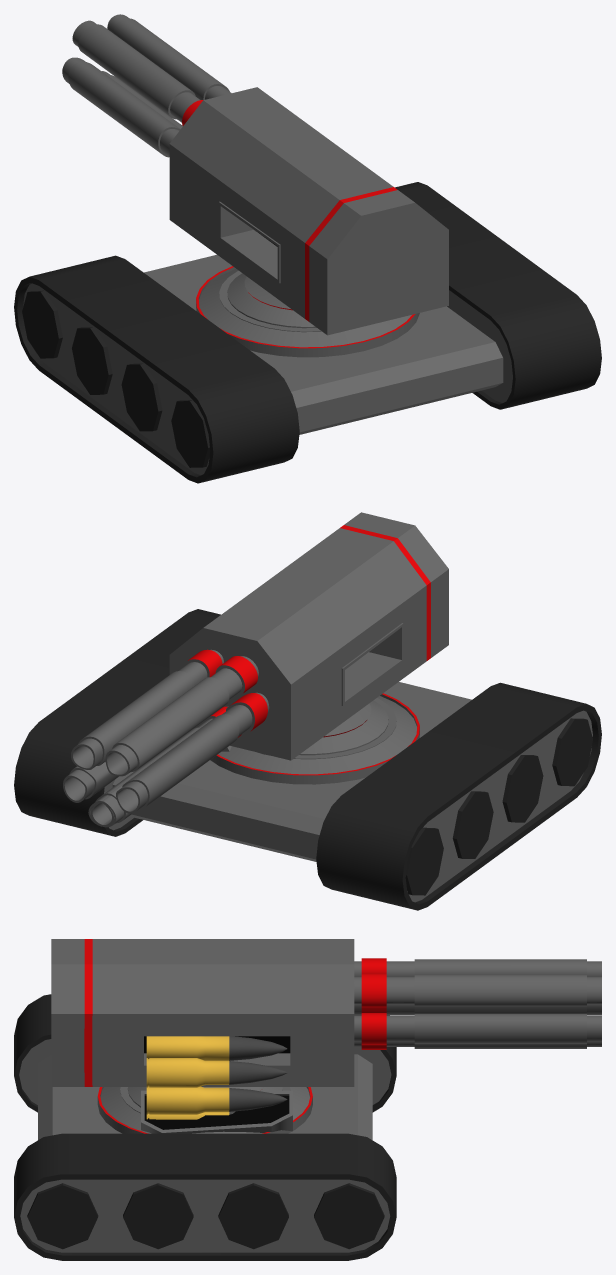
The model's file is GatlingTank.glb.
3 renders of one model, top to bottom at view 1: azimuth 30°, elevation 25°; view 2: azimuth 150°, elevation 25°; view 3: azimuth 270°, elevation 25°, orthographic. The views are drawn at different scales.
Visible parts, largest first — view 1: Tracks, Turret, Base, Cylinder, Turntable, Turret Base, Wheels.007, Wheels.005, Wheels.006, Wheels.008; view 2: Tracks, Turret, Cylinder, Base, Turntable, Turret Base, Wheels.008, Wheels.007, Wheels.006, Wheels.005; view 3: Turret, Tracks, Cylinder, Bullet, Base, Wheels.004, Wheels.002, Wheels.001, Wheels.003, Cube.001, Turntable.
Part boxes in pixels (x1,y1,x2,y2): Tracks: (14, 182, 601, 483); Turret: (169, 87, 448, 335); Base: (144, 254, 503, 434); Cylinder: (62, 14, 231, 157); Turntable: (196, 266, 419, 357); Turret Base: (227, 273, 316, 328); Wheels.007: (121, 363, 162, 431); Wheels.005: (22, 290, 62, 358); Wheels.006: (72, 327, 112, 394); Wheels.008: (171, 400, 210, 467); Tracks: (14, 609, 601, 910); Turret: (169, 512, 448, 760); Cylinder: (63, 649, 269, 827); Base: (112, 682, 471, 861); Turntable: (210, 693, 419, 784); Turret Base: (299, 700, 388, 755); Wheels.008: (552, 718, 592, 786); Wheels.007: (502, 755, 543, 822); Wheels.006: (452, 791, 493, 858); Wheels.005: (405, 827, 443, 895); Turret: (51, 939, 354, 1086); Tracks: (14, 994, 396, 1260); Cylinder: (354, 958, 601, 1049); Bullet: (146, 1036, 287, 1119); Base: (38, 1054, 372, 1139); Wheels.004: (27, 1183, 98, 1249); Wheels.002: (218, 1183, 288, 1249); Wheels.001: (314, 1183, 384, 1249); Wheels.003: (123, 1183, 193, 1249); Cube.001: (141, 1090, 292, 1133); Turntable: (97, 1087, 312, 1133).
Bounding box in the file's own units: 0.9 × 0.5032 × 1.23.
